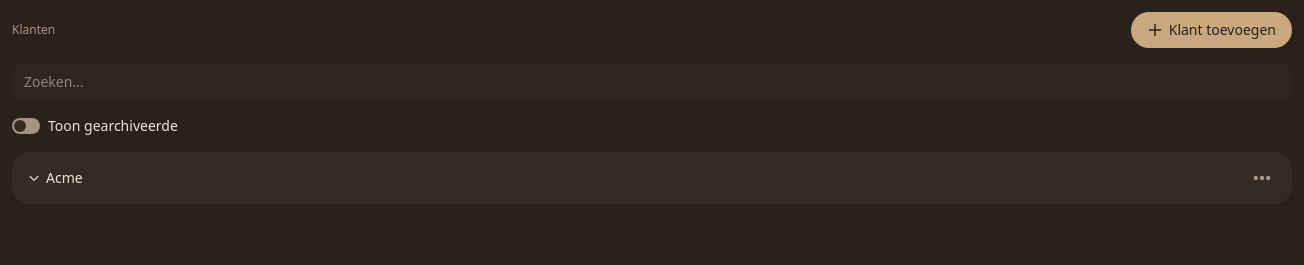
Scenario: the accordion › says so when a client has no projects
Click the button "Acme" at (55, 178), box left=28, top=168, right=83, bottom=188
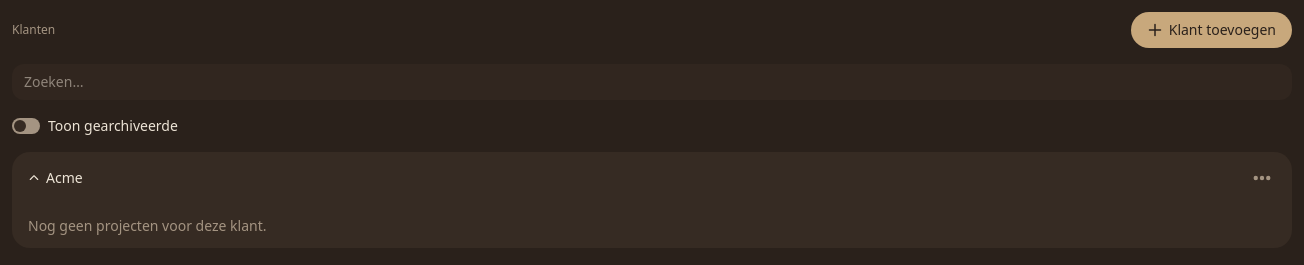
Now the text "Nog geen projecten voor deze klant." is shown, box left=28, top=216, right=266, bottom=235
